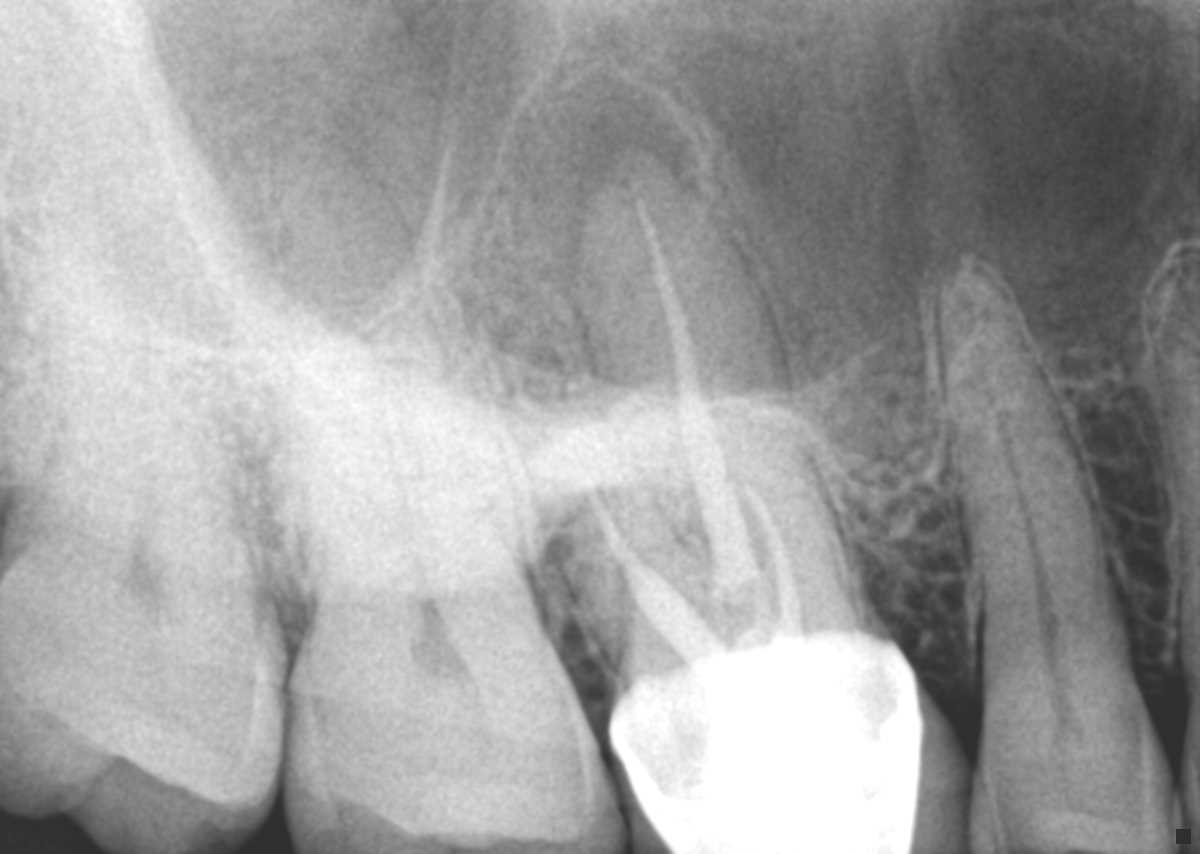Apical Lesion: (502, 69, 704, 269)
Distal Root: (525, 407, 728, 685), (292, 327, 433, 628)
Main Canal: (964, 300, 1070, 681)
Main Root: (932, 258, 1134, 701), (36, 177, 254, 577), (1149, 247, 1200, 650)
Mesial Root: (399, 300, 535, 630), (665, 421, 870, 635)
Palatal Root: (573, 151, 869, 689), (264, 127, 529, 621)
Root Canal Filling: (635, 195, 752, 602), (729, 481, 796, 634)
